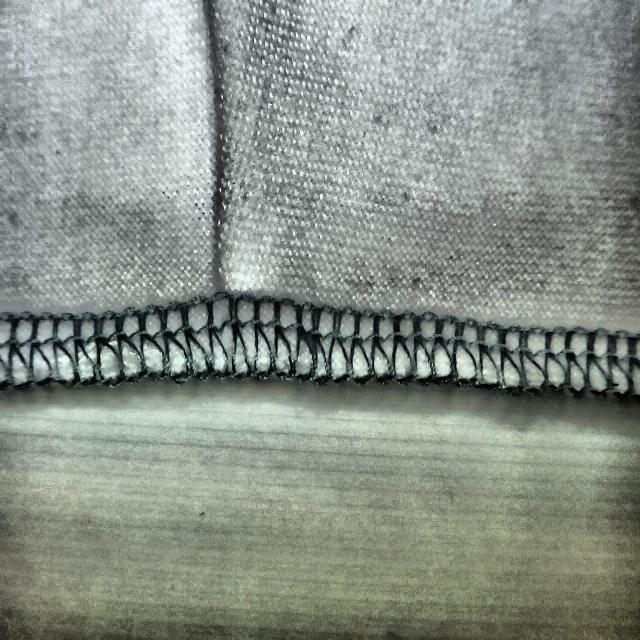gray stitch: (169, 94, 279, 383)
